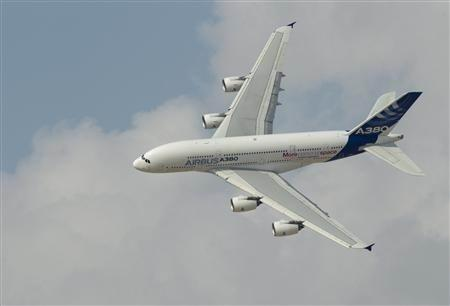airplane: (132, 22, 427, 252)
